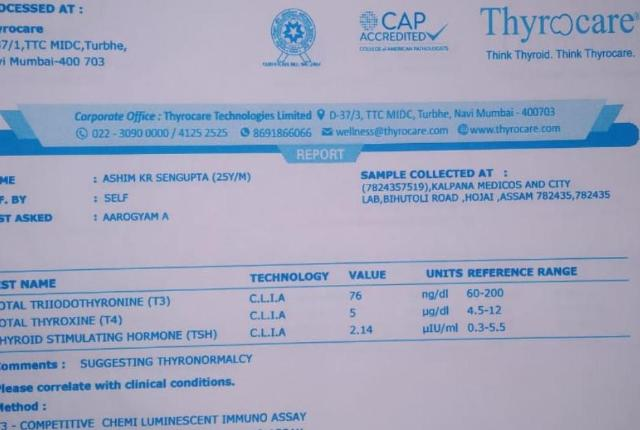Clinical_Conditions: (2, 413, 315, 428)
Name: (99, 169, 254, 186)
Ref_By: (101, 191, 137, 205)
Reference_Range: (466, 285, 515, 338)
Technology: (243, 291, 302, 343)
Test_Asked: (100, 211, 174, 225)
Test_Name: (1, 295, 229, 345)
Unit: (416, 285, 464, 339)
Value: (345, 287, 384, 341)
